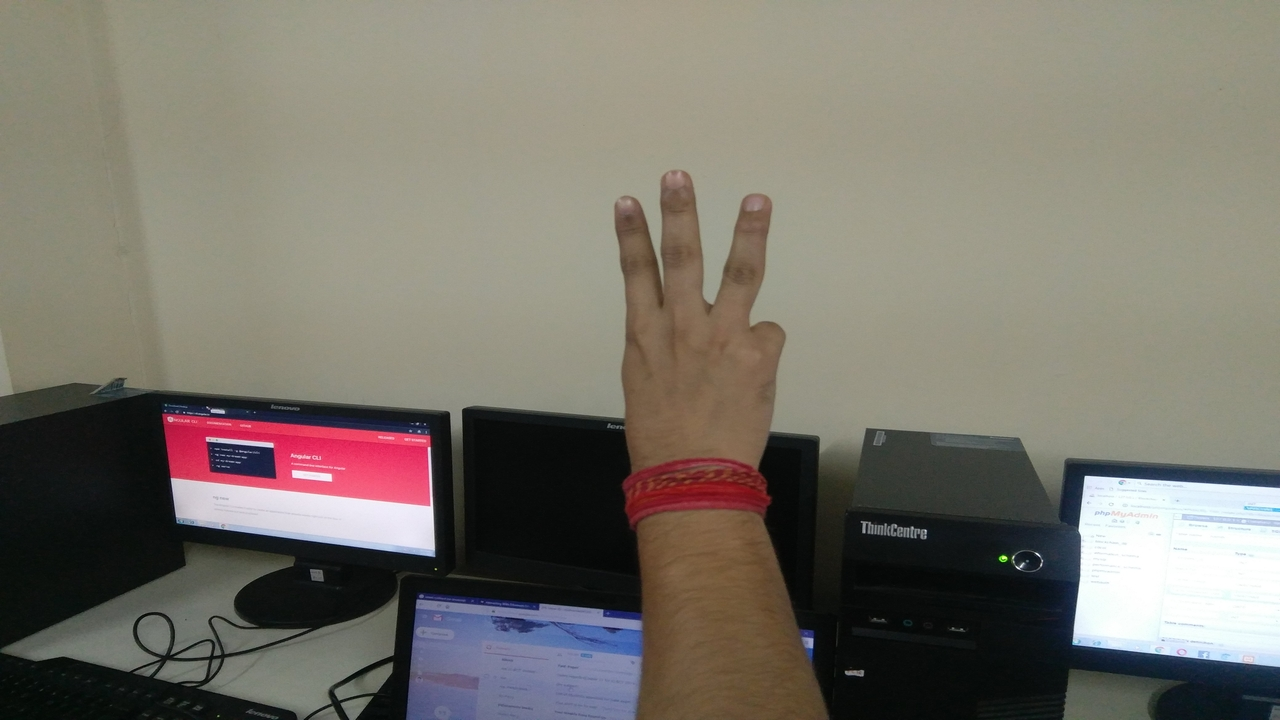fingertip: (650, 160, 704, 206), (730, 180, 778, 224), (606, 182, 650, 228)
